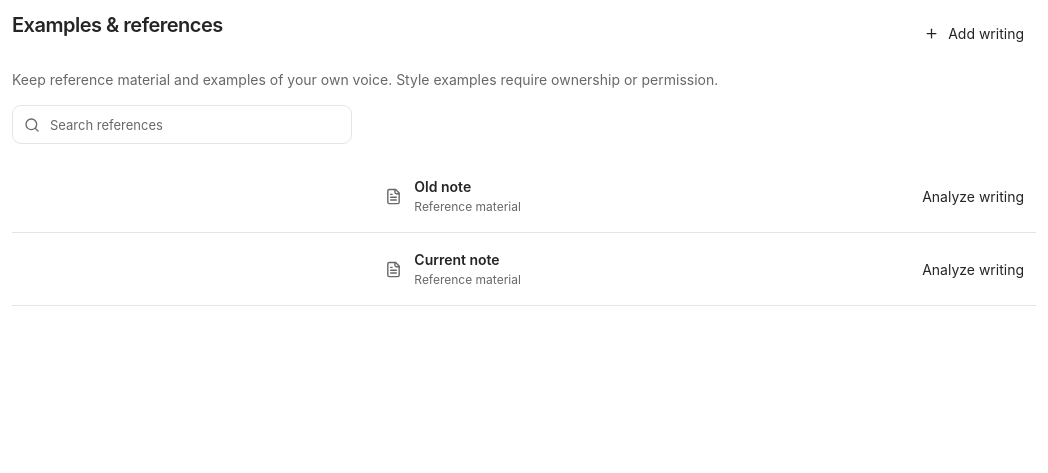
it: does not let an old reference response replace the latest selection
This screenshot has width=1048, height=473.
Click the button "Old note Reference material" at (453, 196), box [12,168,894,224]
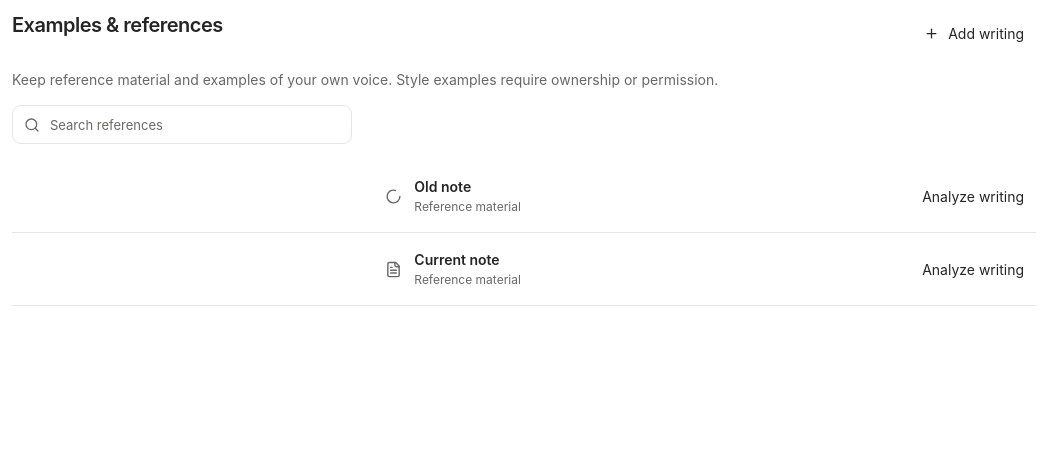
Click the button "Current note Reference material" at (453, 269), box [12,241,894,297]
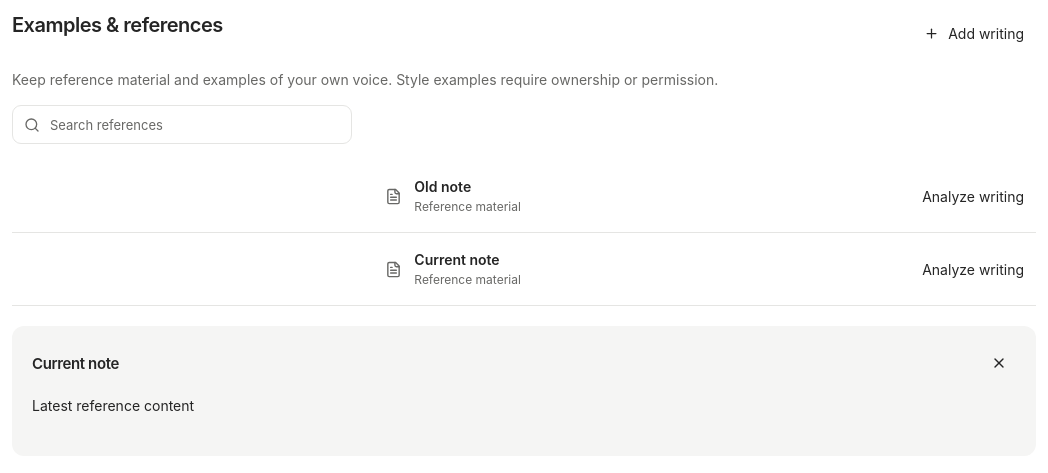
Check: the text "Latest reference content" is shown, box [32,397,194,414]
